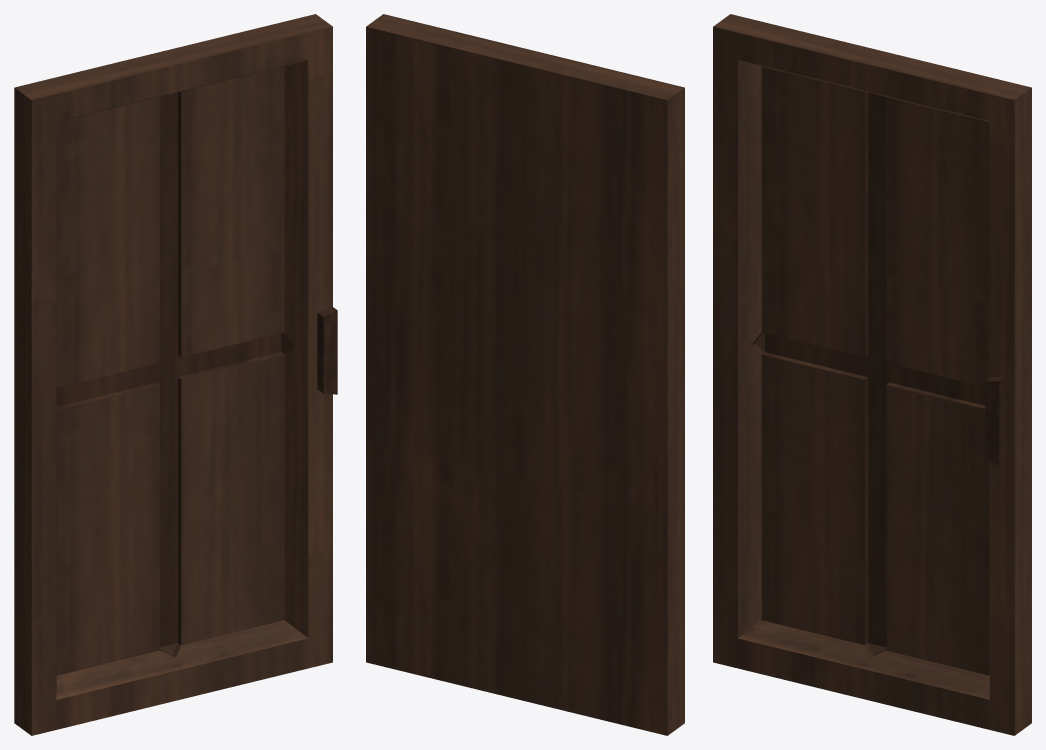
File: CabinetHigh1Door.fbx
3 views of the same model, side by side, from view 1: azimuth 30°, elevation 25°; view 2: azimuth 150°, elevation 25°; view 3: azimuth 330°, elevation 25° (orthographic).
Parts seen in each view (by area): view 1: Cube.036; view 2: Cube.036; view 3: Cube.036.
Part boxes in pixels (x1,y1,x2,y2): Cube.036: [14, 14, 337, 735]; Cube.036: [366, 14, 684, 735]; Cube.036: [713, 14, 1031, 735].
Size of the model in its own units: 79.95 by 161 by 12.5.
1 material, 1 textured.
